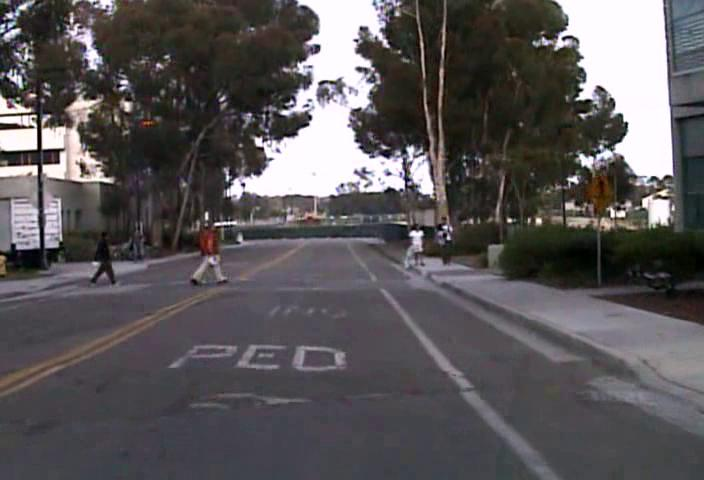pedestrianCrossing: (583, 171, 616, 212)
